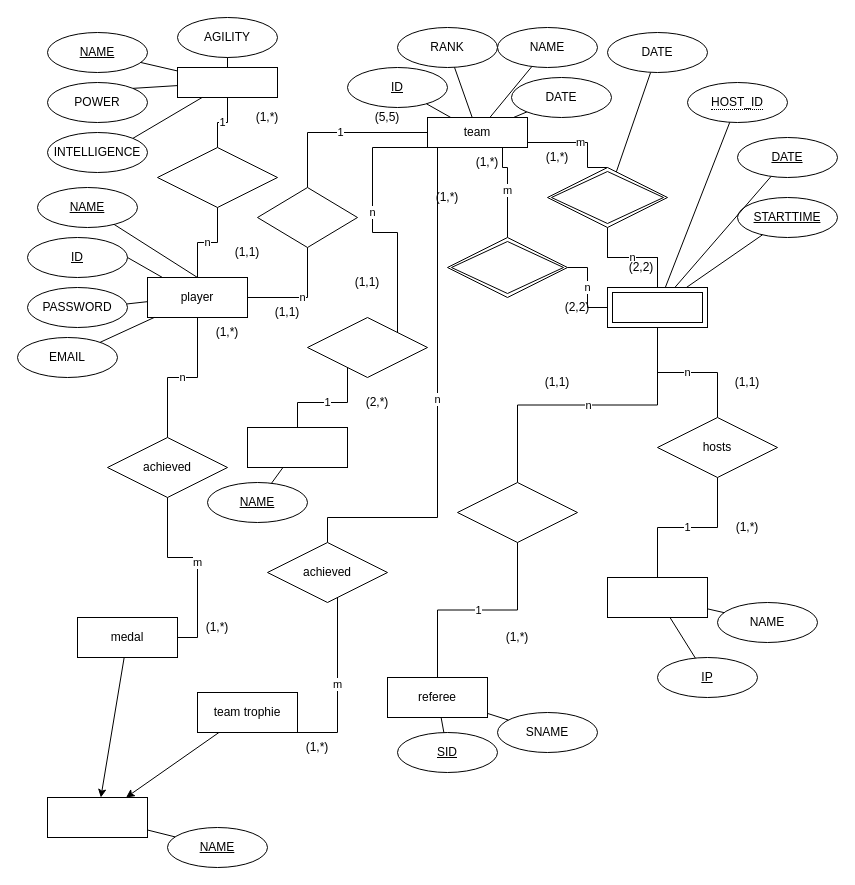
Some shapes in this 855 by 885 pixel diagram are drawn without their labels. The centre of each missing label's shape, as x and y in pixels:
achievement: pixel 97 817
character_class: pixel 227 82
is: pixel 217 177
league: pixel 297 447
match: pixel 657 307
plays: pixel 507 267
plays_for: pixel 307 217
plays_in: pixel 367 347
plays_tr: pixel 607 197
referees: pixel 517 512
server: pixel 657 597
